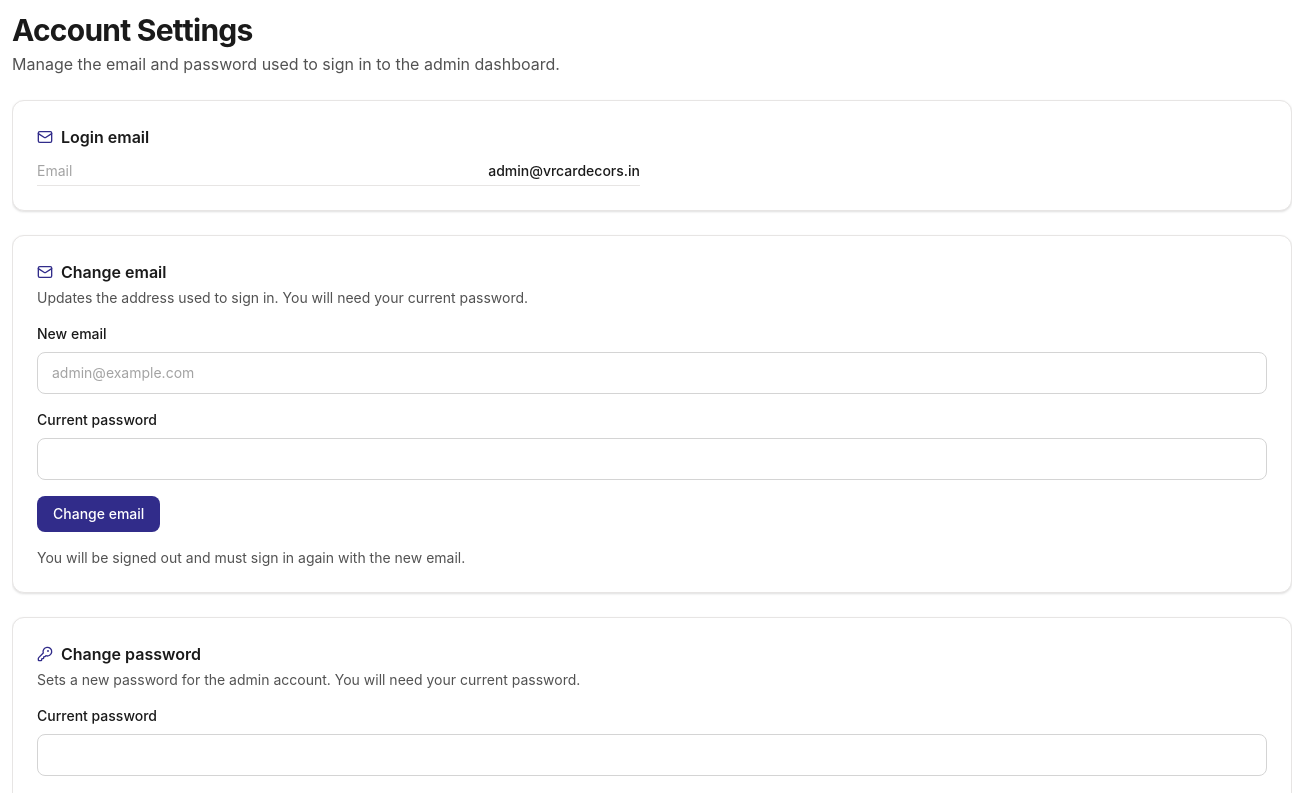
Test: AccountSettings › shows a conflict message when the email is already taken
This screenshot has width=1292, height=793.
expect the heading "Account Settings" is shown: met, box 12,12 -> 253,48
Type "taken@vrcardecors.in" into the field labelled "New email" at {"x": 652, "y": 373}, box 37,352 -> 1267,394
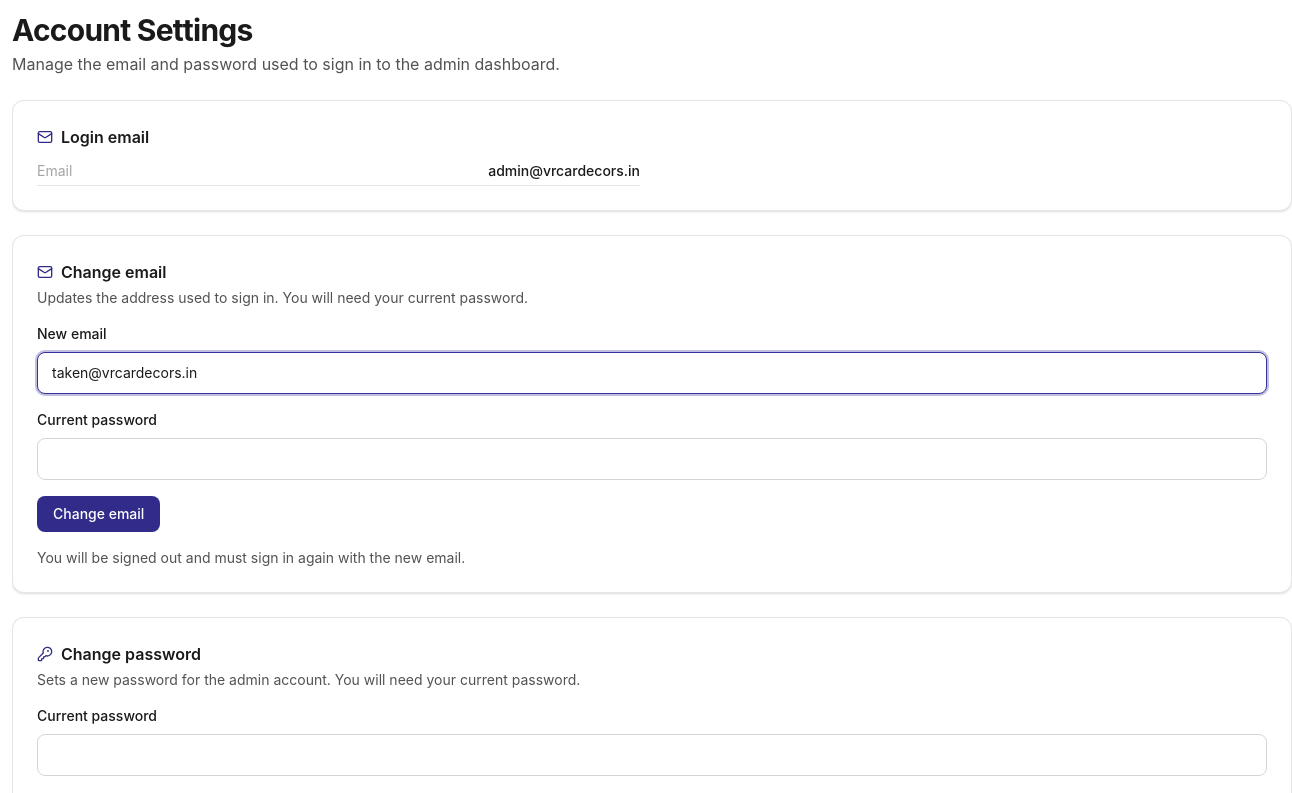
Type "correct-horse-battery" into the 1st password field labelled "Current password" at {"x": 652, "y": 459}, box 37,438 -> 1267,480
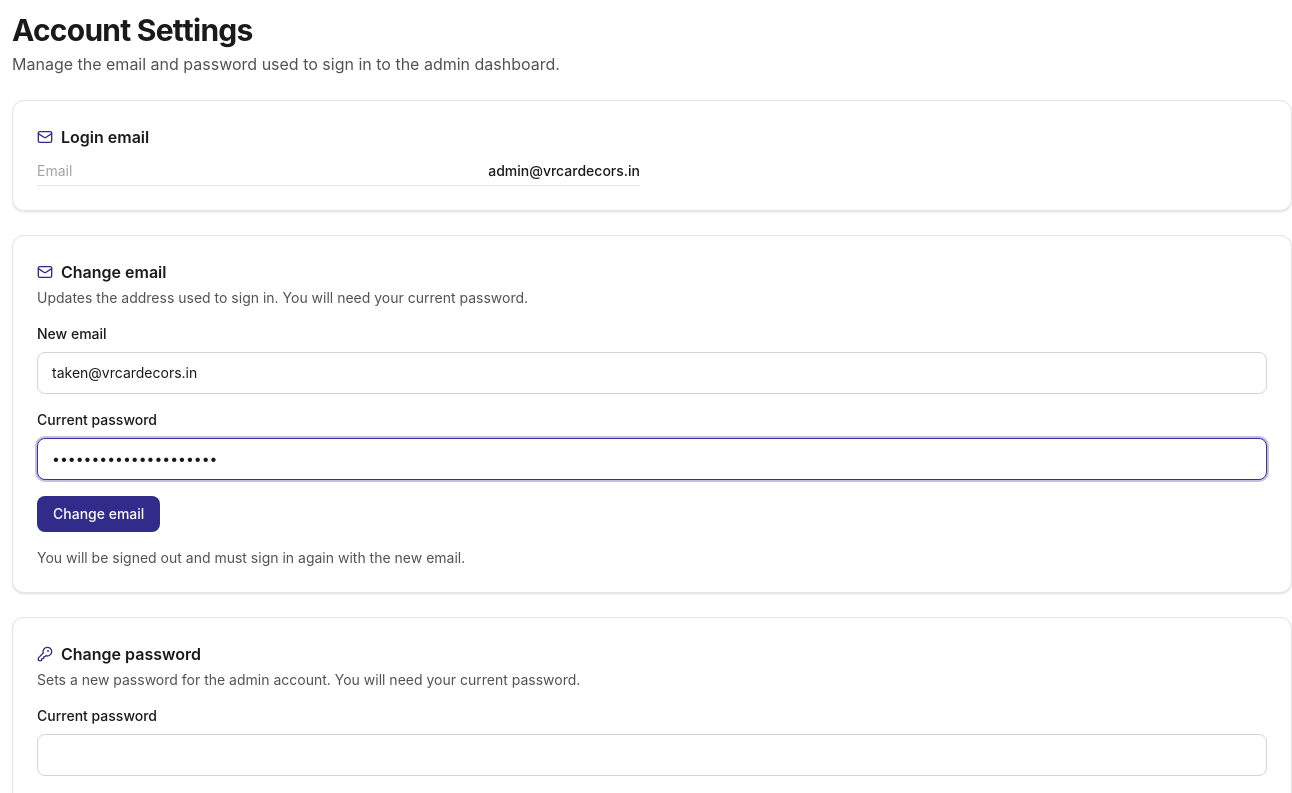
Click the button "Change email" at {"x": 99, "y": 514}, box 37,496 -> 160,532
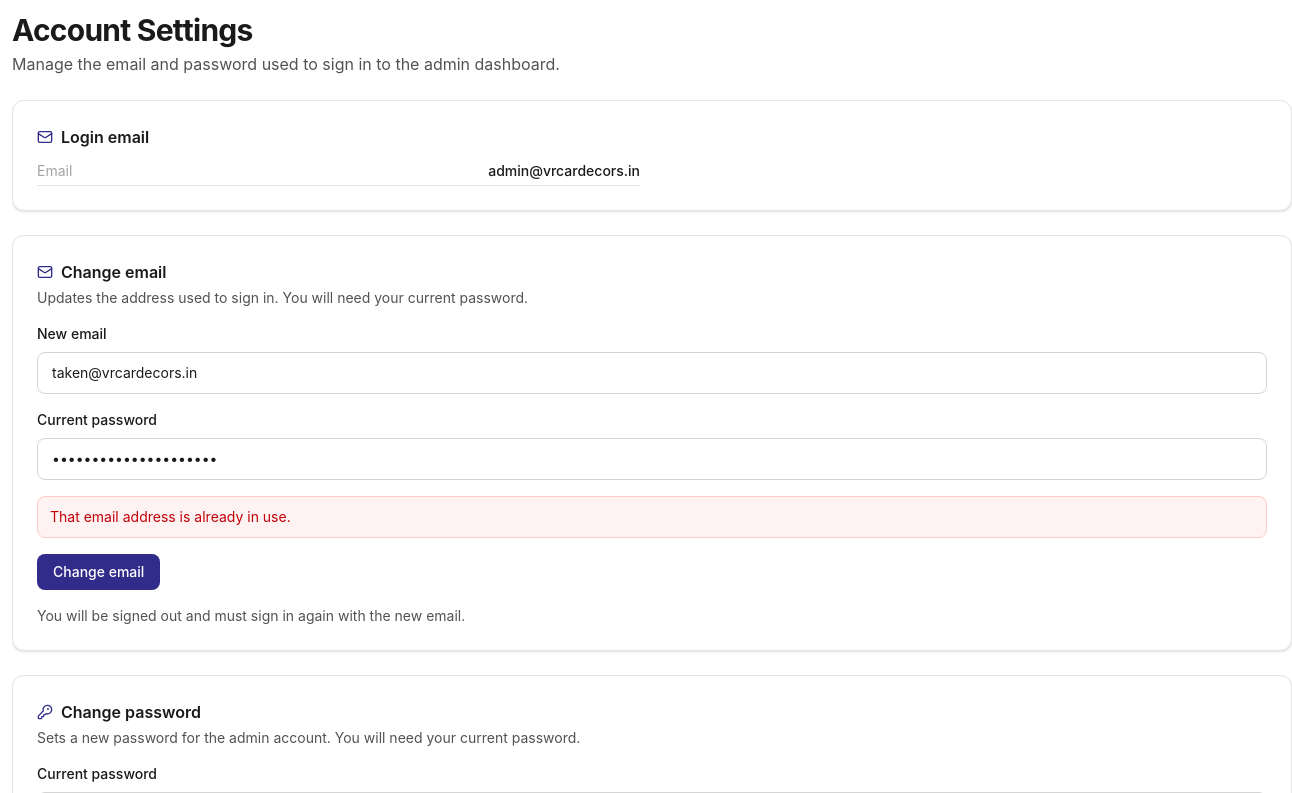
expect the message shows "already in use": met, box 50,508 -> 291,525
